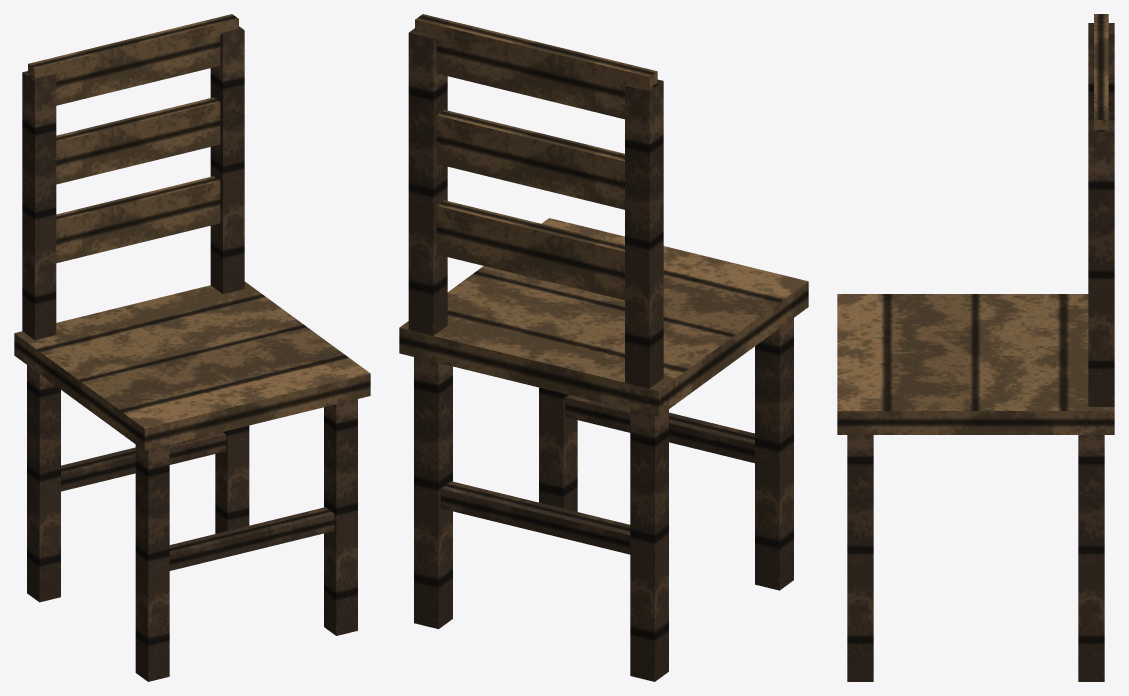
File: prop.chair.wood.glb
3 views of the same model, side by side, from view 1: azimuth 30°, elevation 25°; view 2: azimuth 150°, elevation 25°; view 3: azimuth 270°, elevation 25° (orthographic). The views are drawn at different scales.
Visible parts, largest first — view 1: prop.chair.wood; view 2: prop.chair.wood; view 3: prop.chair.wood.
Boxes of the visible parts, x1=… form: prop.chair.wood: x1=14, y1=14, x2=370, y2=681; prop.chair.wood: x1=399, y1=14, x2=808, y2=681; prop.chair.wood: x1=837, y1=14, x2=1114, y2=681.
Size of the model in its own units: 0.42 by 0.9375 by 0.42.
Materials: 2 (2 with a texture image).
